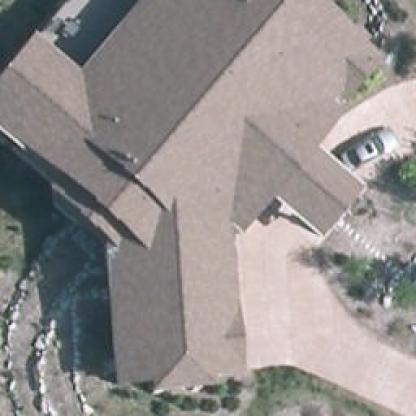car: (340, 127, 398, 170)
